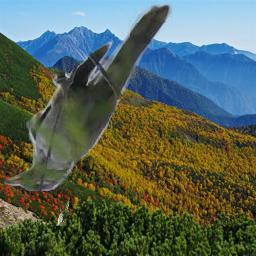Cuckoo: (5, 3, 178, 192), (57, 200, 70, 226)
